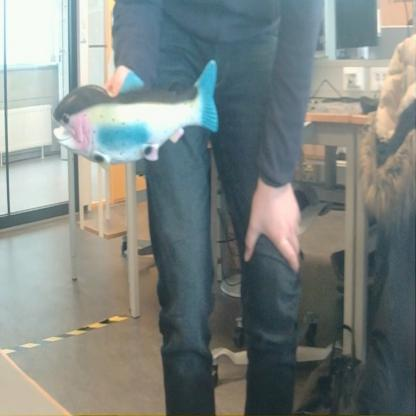rubberfish: (50, 57, 224, 168)
